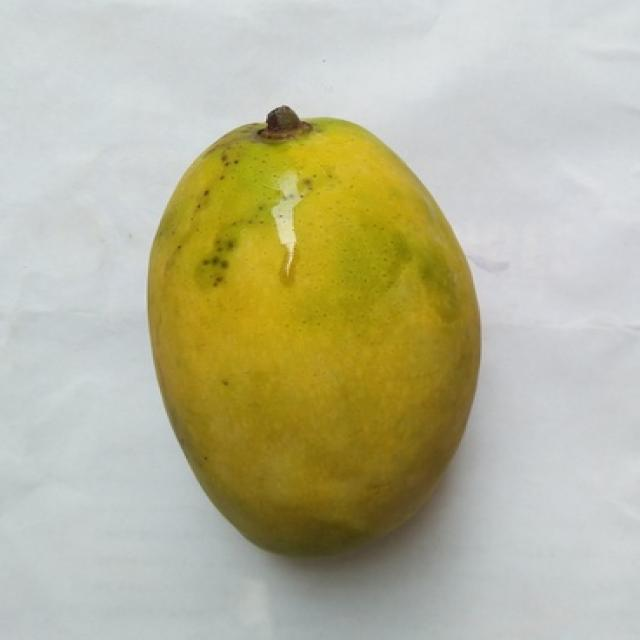Mango: (148, 118, 478, 553)
